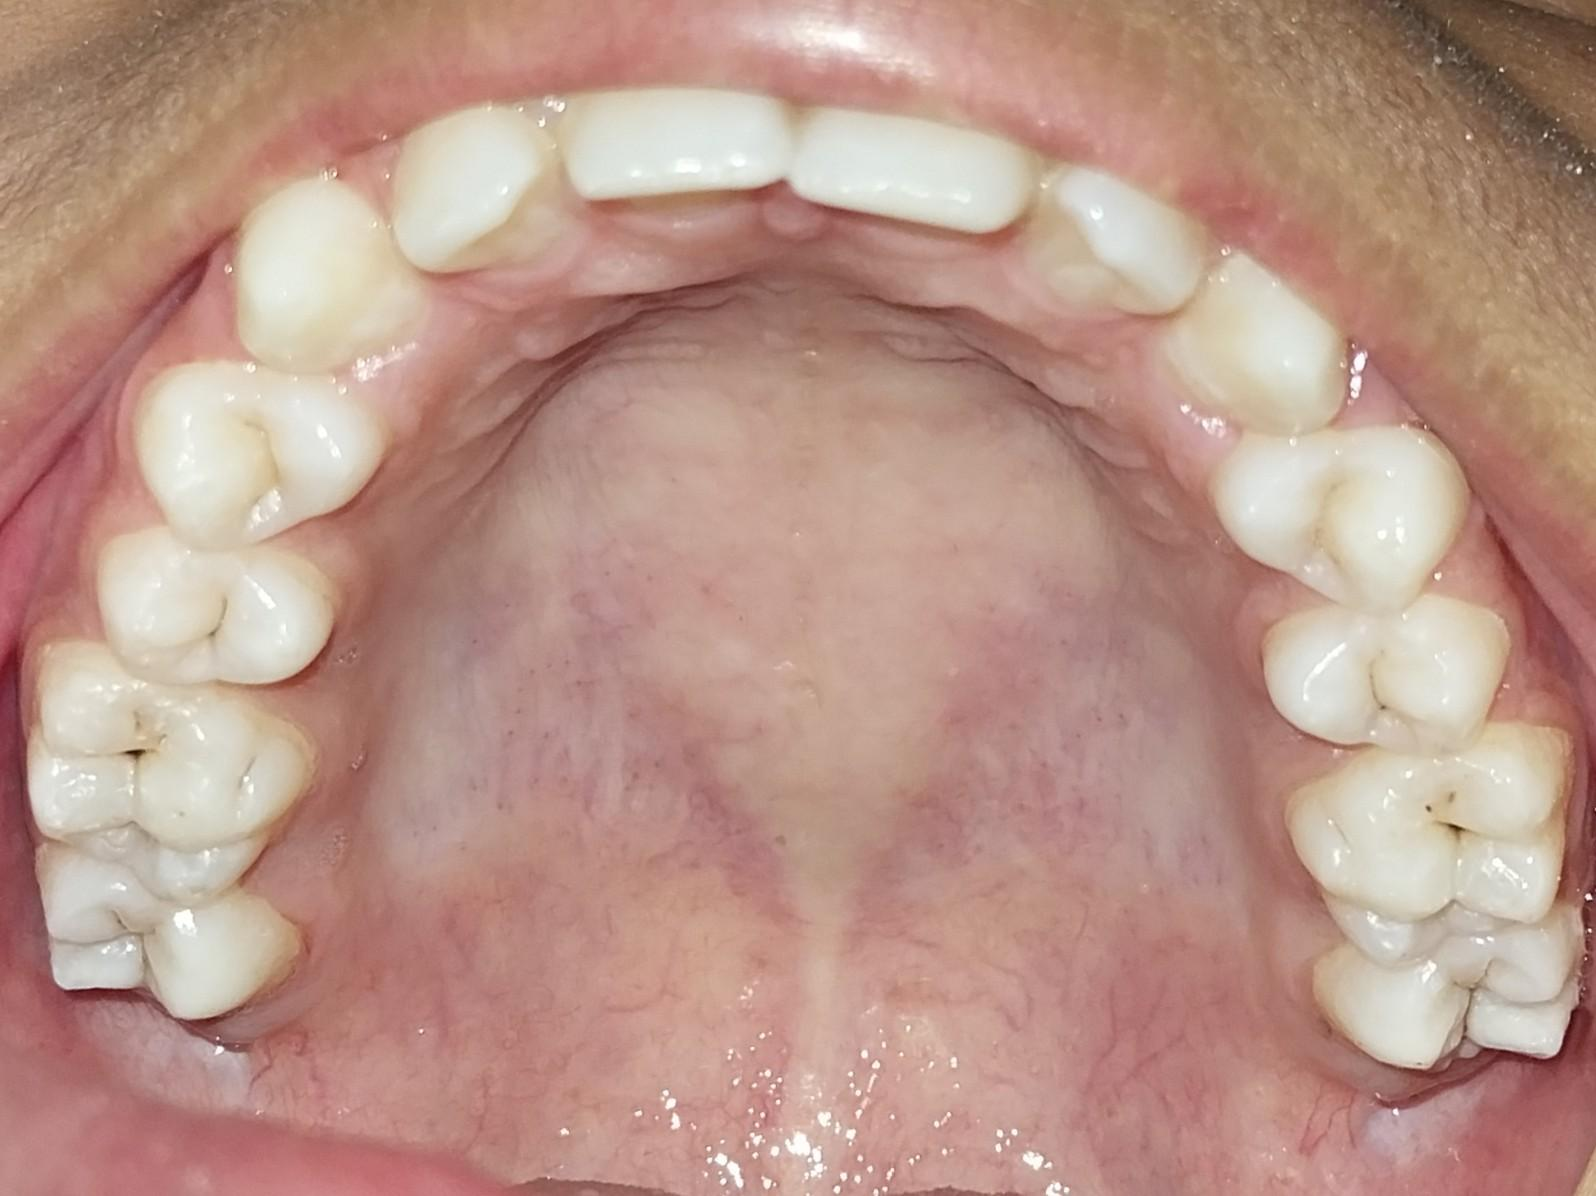D: (22, 654, 296, 902), (1291, 736, 1571, 963)
